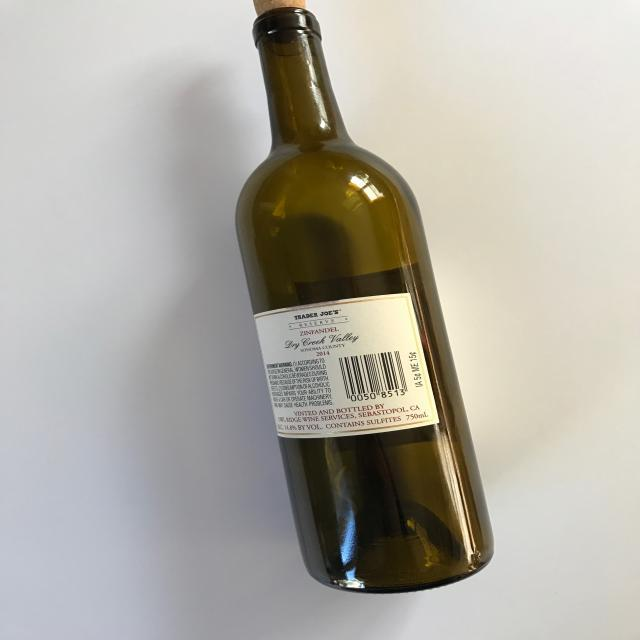glass: (236, 1, 497, 595)
